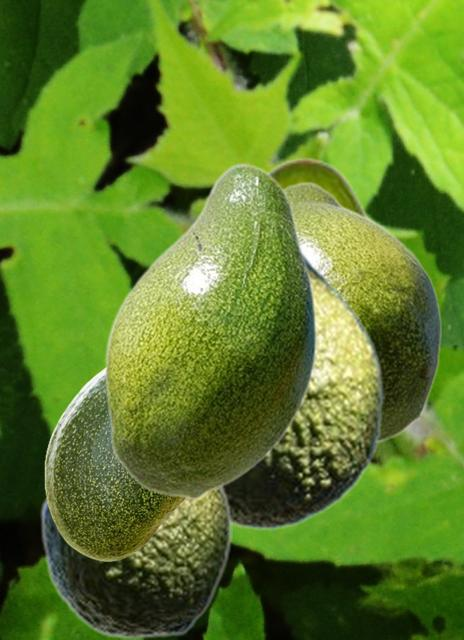avocado: (104, 162, 317, 499), (225, 248, 383, 530), (284, 181, 441, 445), (267, 156, 385, 454), (39, 487, 231, 638), (44, 366, 186, 560)
